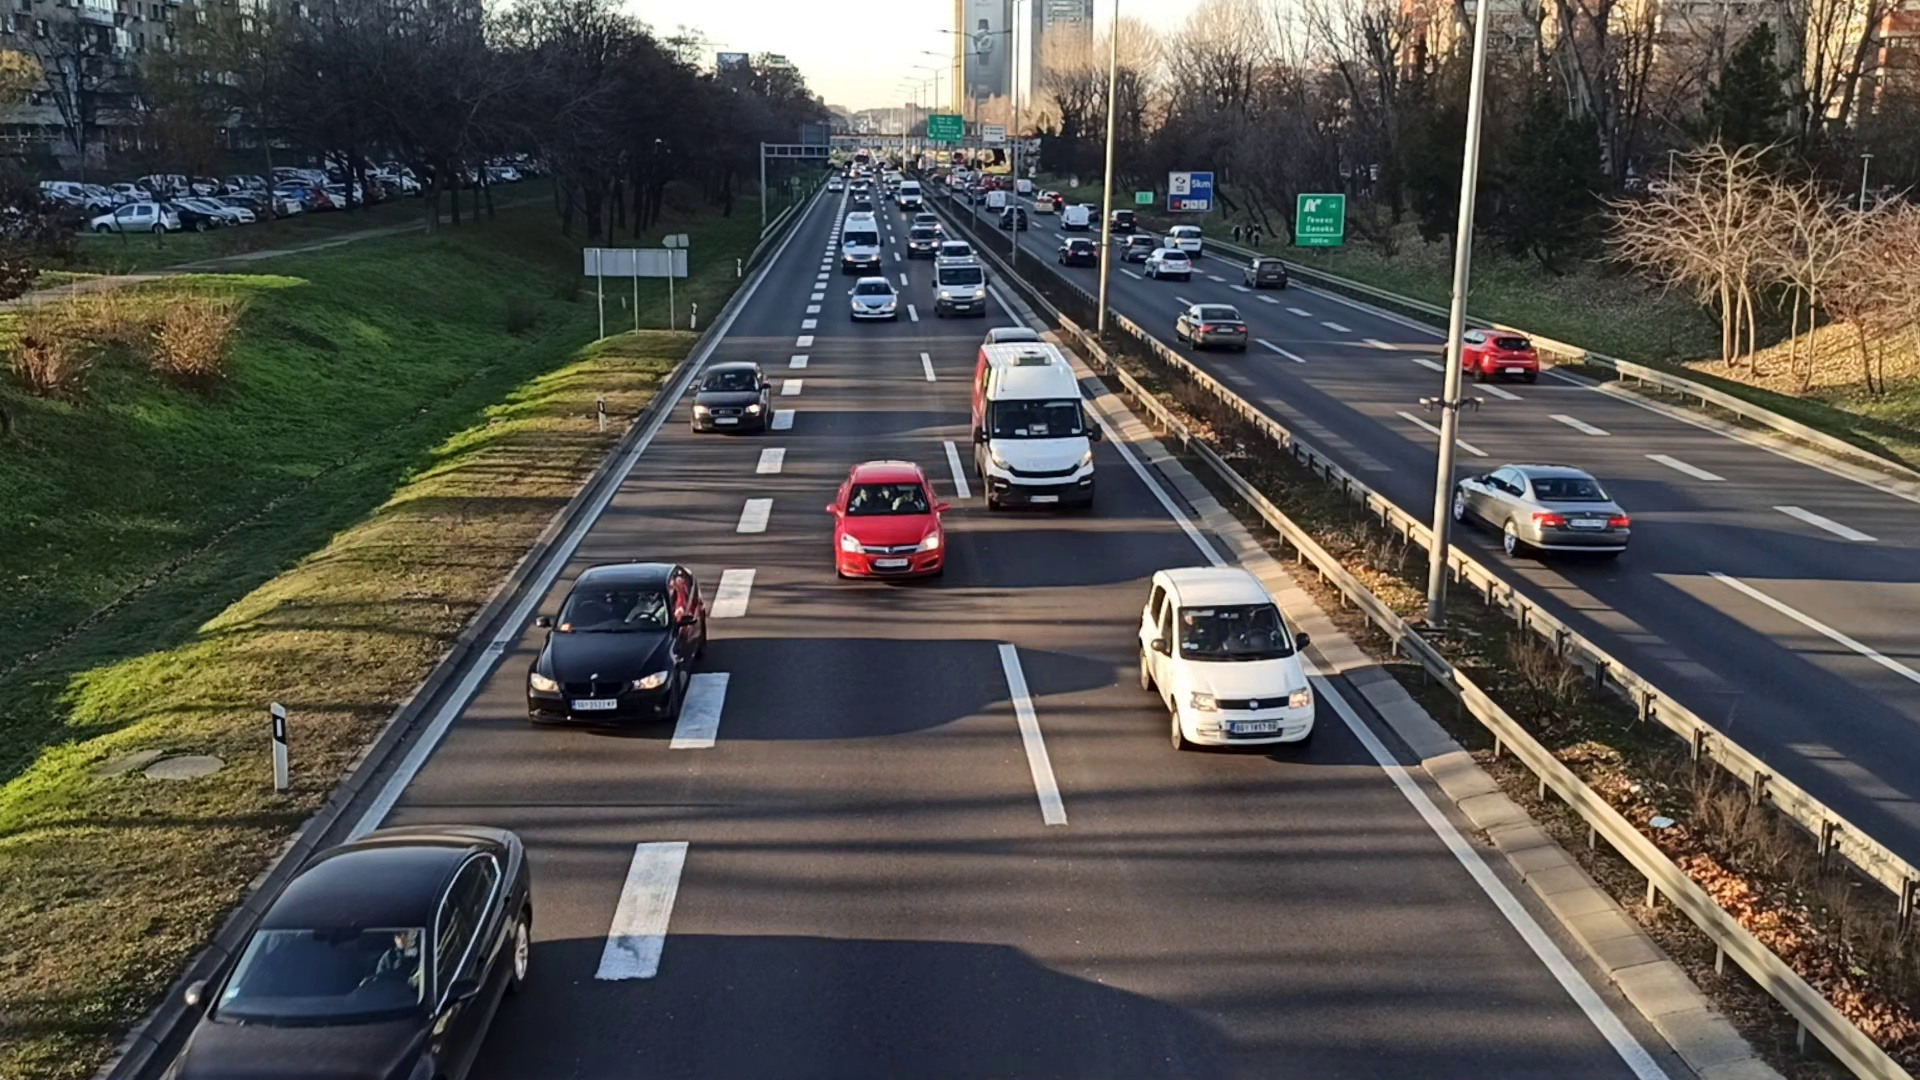car: (156, 825, 545, 1080), (1135, 566, 1313, 756), (524, 562, 705, 731), (1451, 460, 1631, 568), (829, 462, 945, 588), (694, 360, 773, 434), (1440, 324, 1538, 384), (1172, 302, 1245, 348), (848, 273, 899, 320), (1143, 247, 1193, 284), (1242, 255, 1286, 287), (1059, 237, 1098, 266), (938, 241, 978, 265), (907, 229, 944, 255), (825, 175, 844, 193), (852, 190, 873, 204)
van: (965, 331, 1095, 509), (934, 260, 990, 315), (841, 214, 881, 273)
